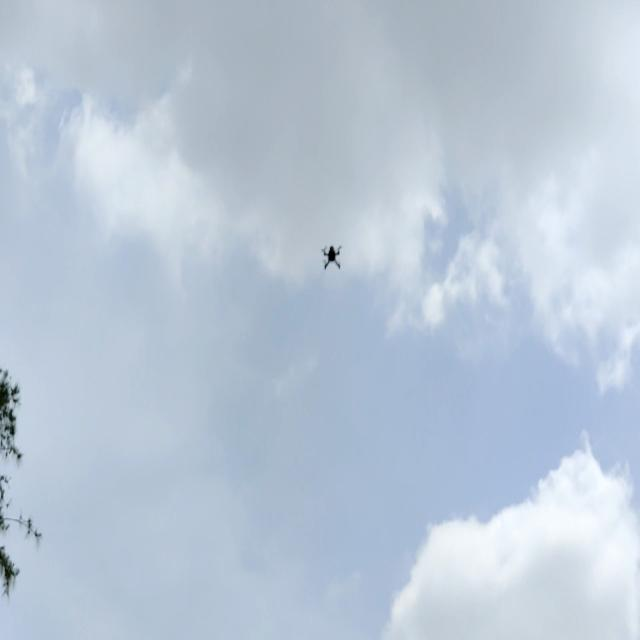drone: (317, 240, 348, 274)
